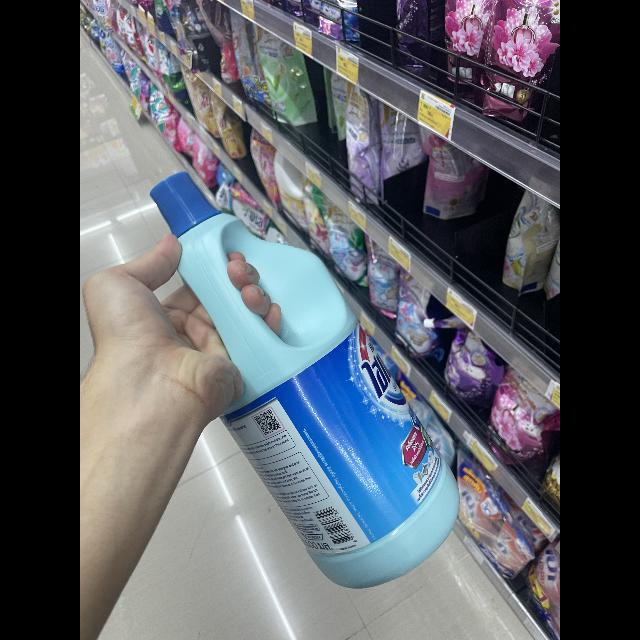chemical_plastic_bottle: (145, 160, 465, 590)
